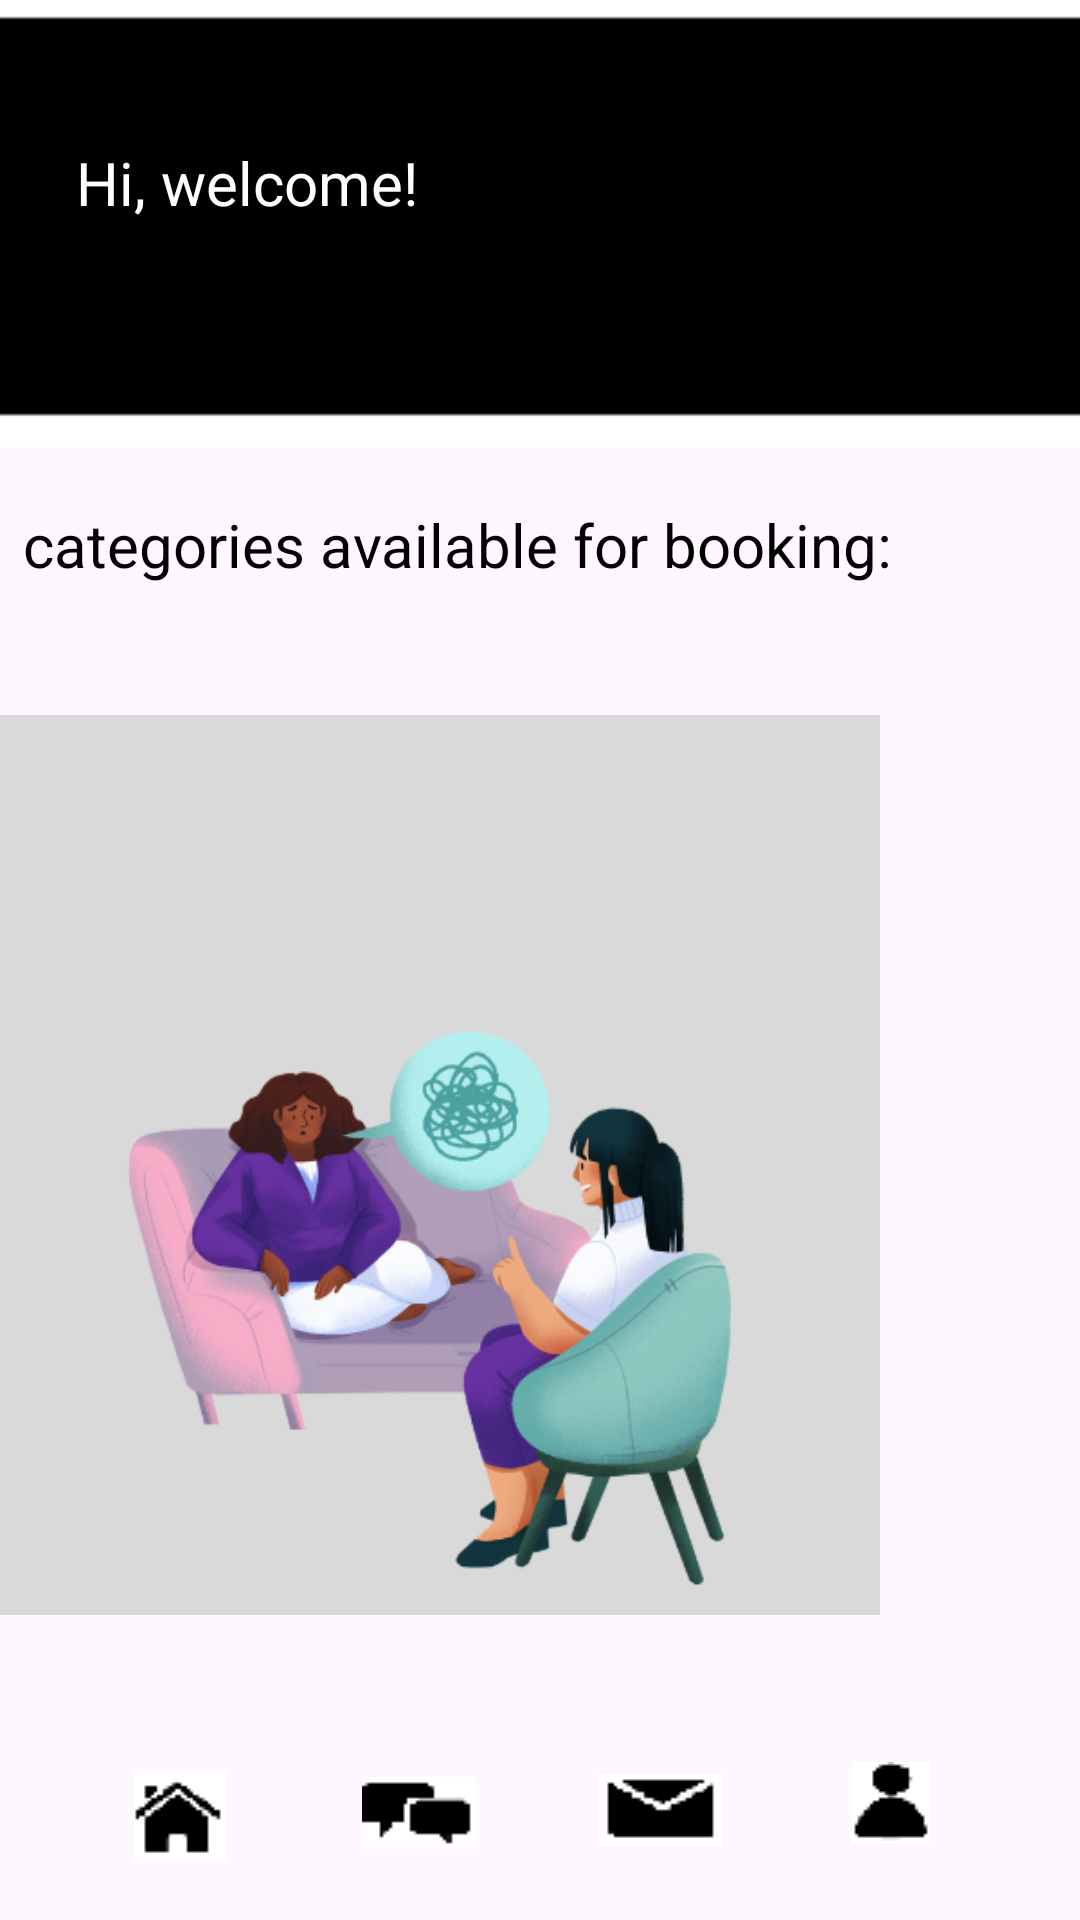

Icons on this 1080px x 1920px Android screen, each with the point to tap as (x=x, y=y):
email: (x=660, y=1808)
home: (x=178, y=1817)
message: (x=416, y=1813)
profile: (x=891, y=1800)
